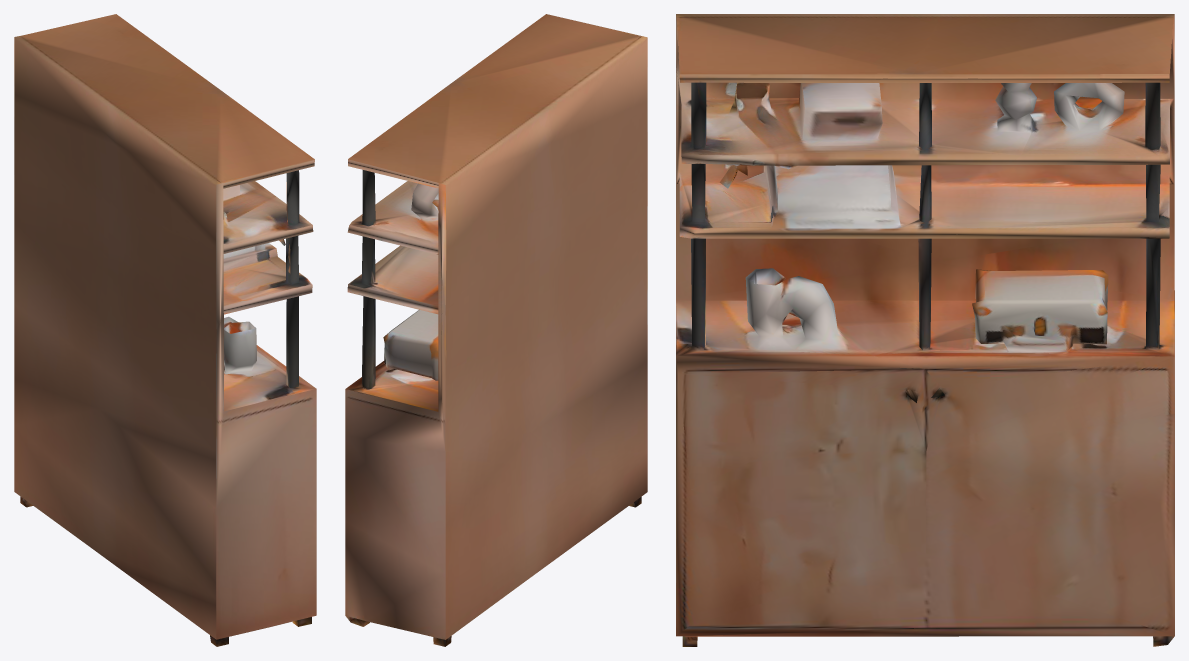
File: 우드 수납장.glb
3 renders of one model, left to right at view 1: azimuth 30°, elevation 25°; view 2: azimuth 150°, elevation 25°; view 3: azimuth 270°, elevation 25°, orthographic. The views are drawn at different scales.
Visible parts, largest first — view 1: tripo_node_c1399be1-0199-4f32-b7c3-4311508882e6; view 2: tripo_node_c1399be1-0199-4f32-b7c3-4311508882e6; view 3: tripo_node_c1399be1-0199-4f32-b7c3-4311508882e6.
Boxes of the visible parts, x1,y1,x2,y2 form: tripo_node_c1399be1-0199-4f32-b7c3-4311508882e6: [14, 14, 316, 646]; tripo_node_c1399be1-0199-4f32-b7c3-4311508882e6: [345, 14, 647, 646]; tripo_node_c1399be1-0199-4f32-b7c3-4311508882e6: [676, 14, 1174, 646].
Size of the model in its own units: 0.2424 by 0.9996 by 0.7874.
1 material, 1 textured.
